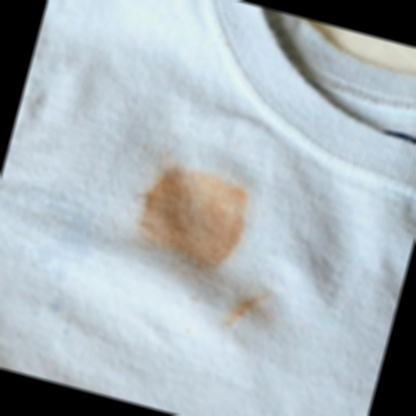kimchi: (116, 158, 258, 280), (222, 276, 277, 342)
